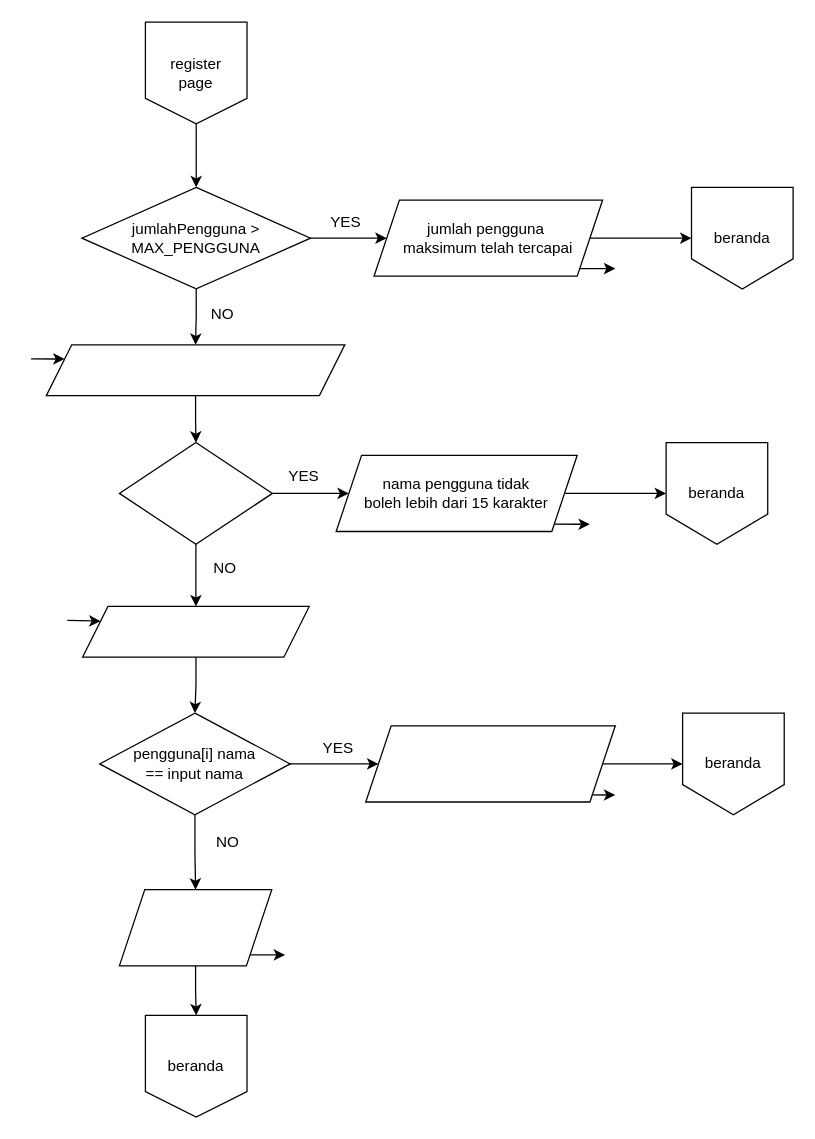
This 815x1139 diagram has some shape labels left out. The shapes that lost their labels are listed below. From the top down, each one's centre as x and y in pixels, then its label:
At (195,370): "Masukkan nama (maks 15 karakter)".
At (195,492): "nama_input .length > 15".
At (195,631): "Masukkan password".
At (489,763): "nama pengguna sudah digunakan, gunakan nama lain".
At (195,927): "akun berhasil didaftarkan".
